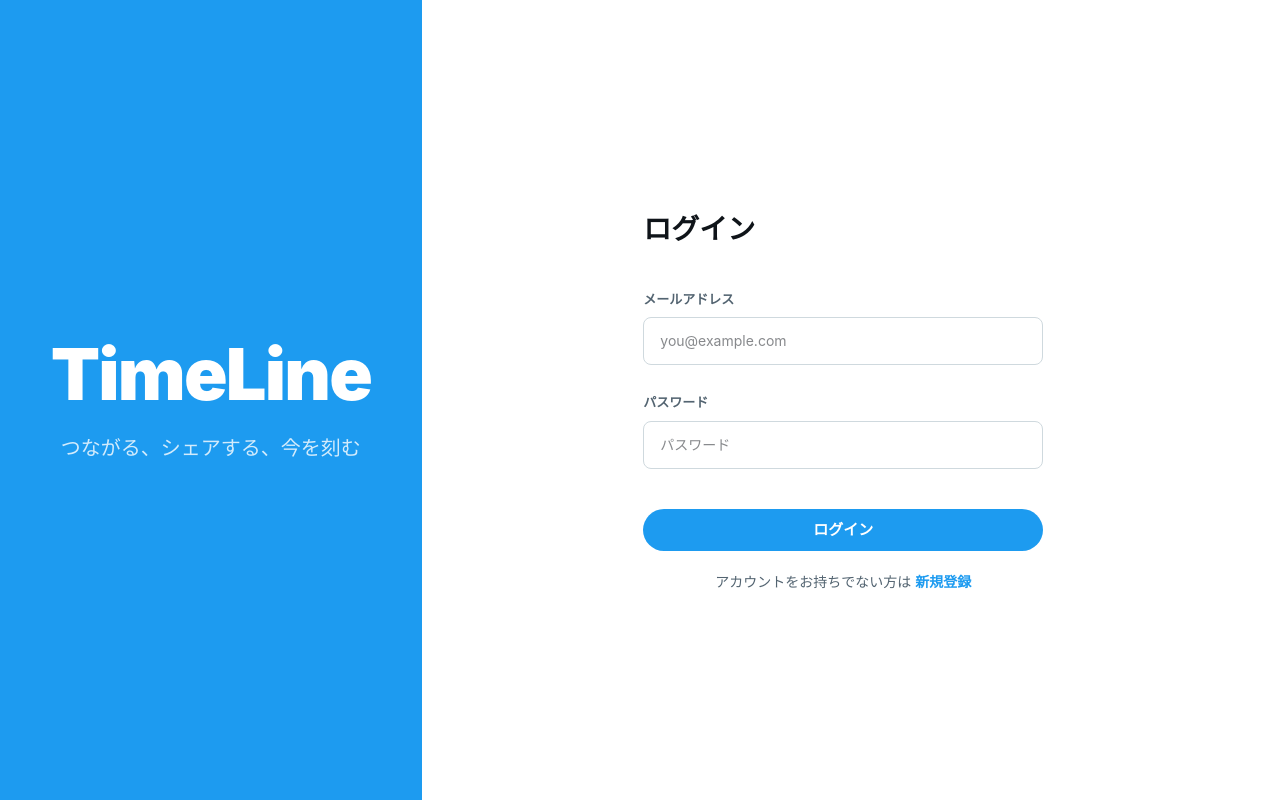
Test: LoginPage › パスワードのみ空のときバリデーションエラーが表示される
This screenshot has width=1280, height=800.
Type "alice@example.com" into the field labelled "メールアドレス" at (843, 341), box [643,317,1043,365]
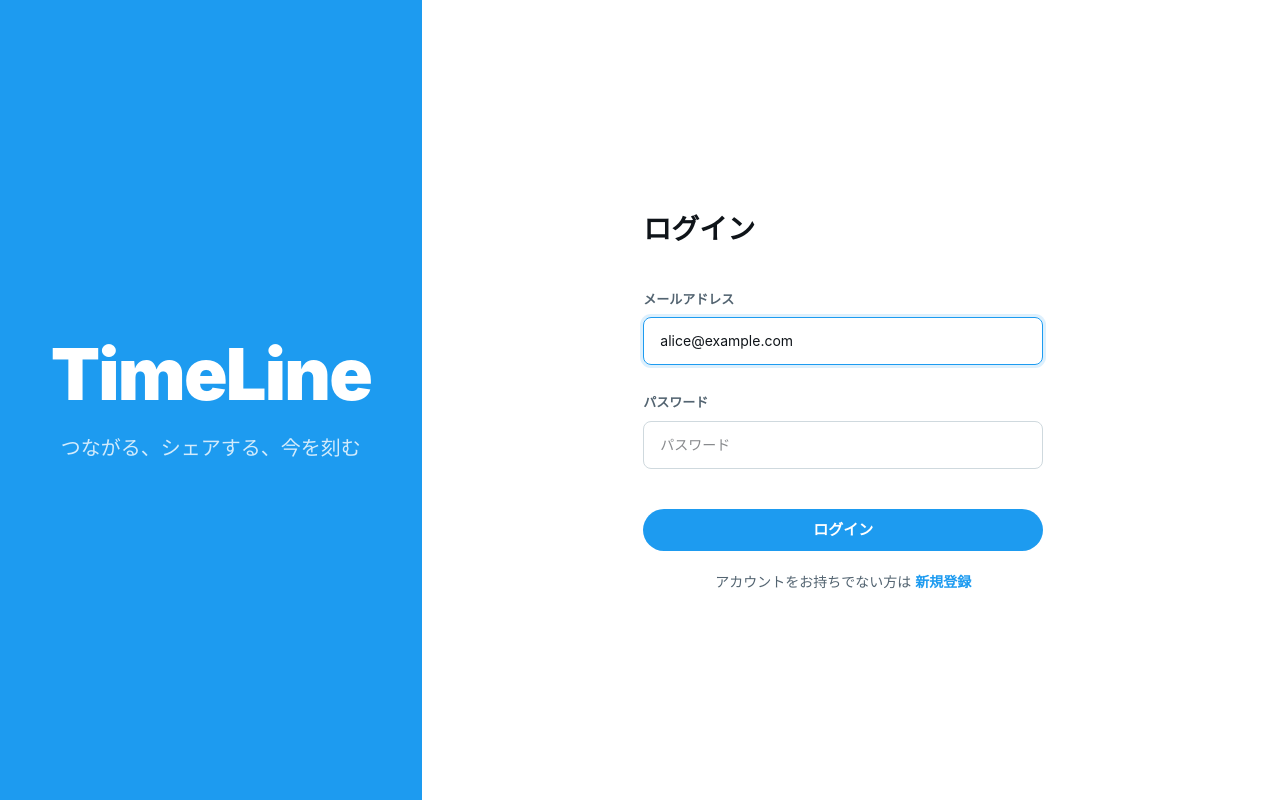
Click the button "ログイン" at (843, 530), box [643,509,1043,551]
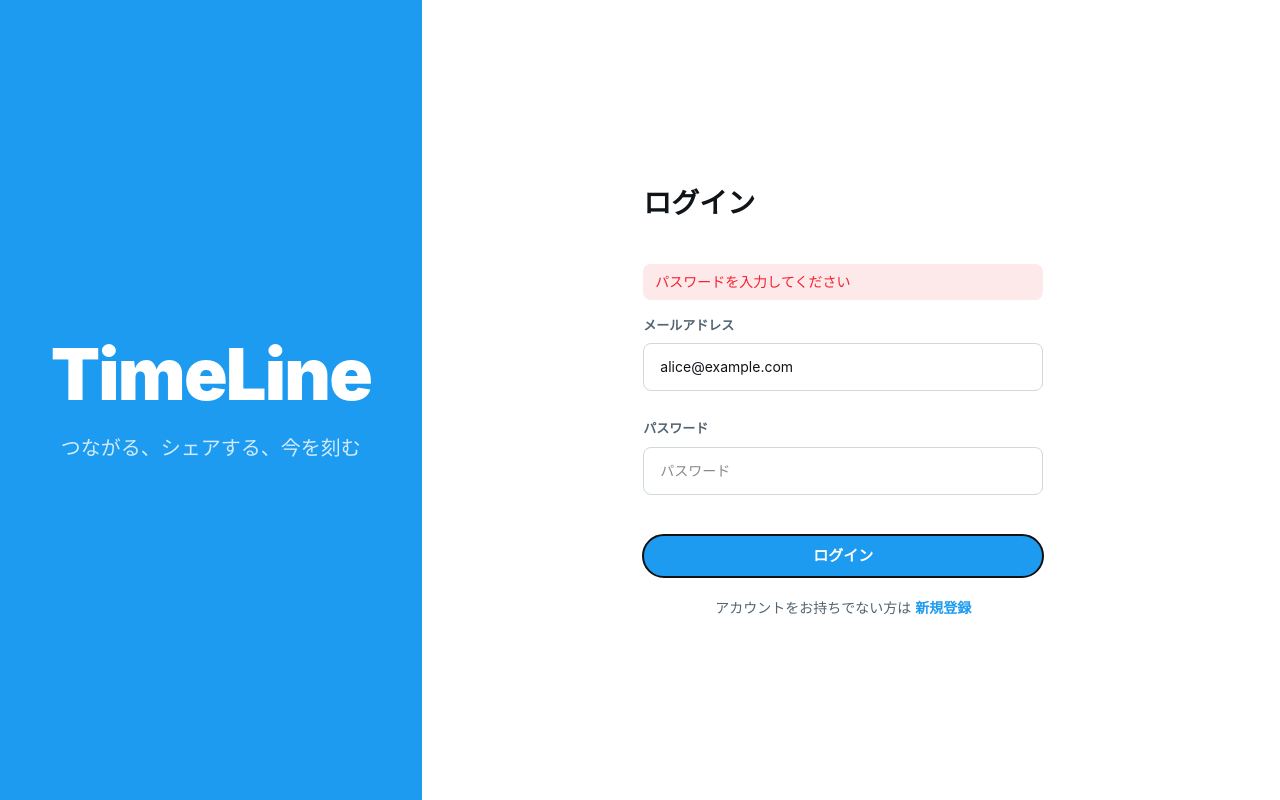
Result: the text "パスワードを入力してください" is shown at [643,264,1043,300]
